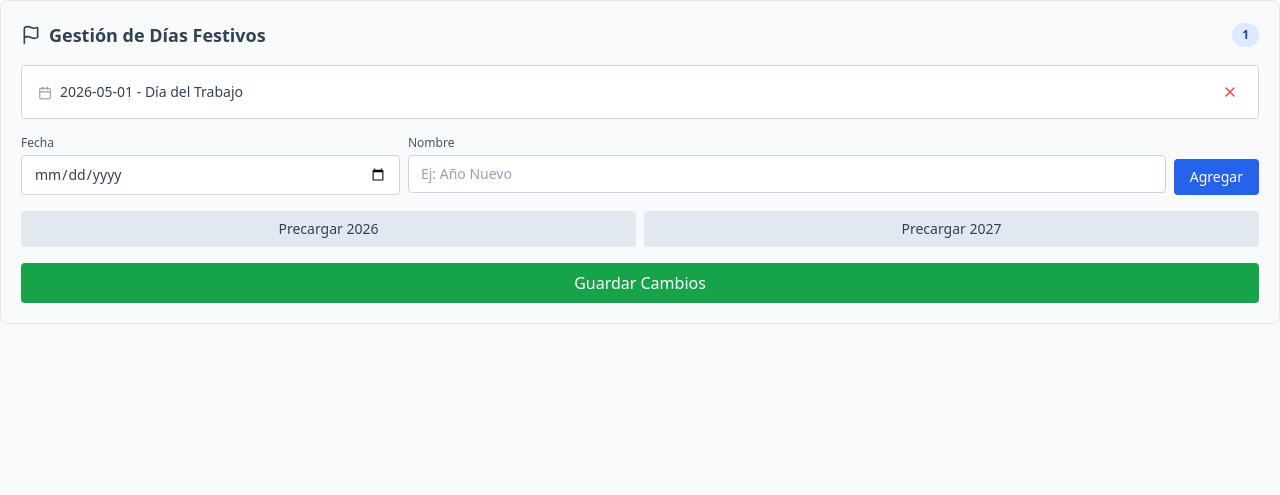
Scenario: HolidayManager › preloads 2026 holidays without overwriting existing entries
Check: the text "2026-05-01 - Día del Trabajo" is shown, box left=38, top=82, right=243, bottom=102
Step 1. Click the button "Precargar 2026" → click(328, 229), box left=21, top=211, right=636, bottom=247
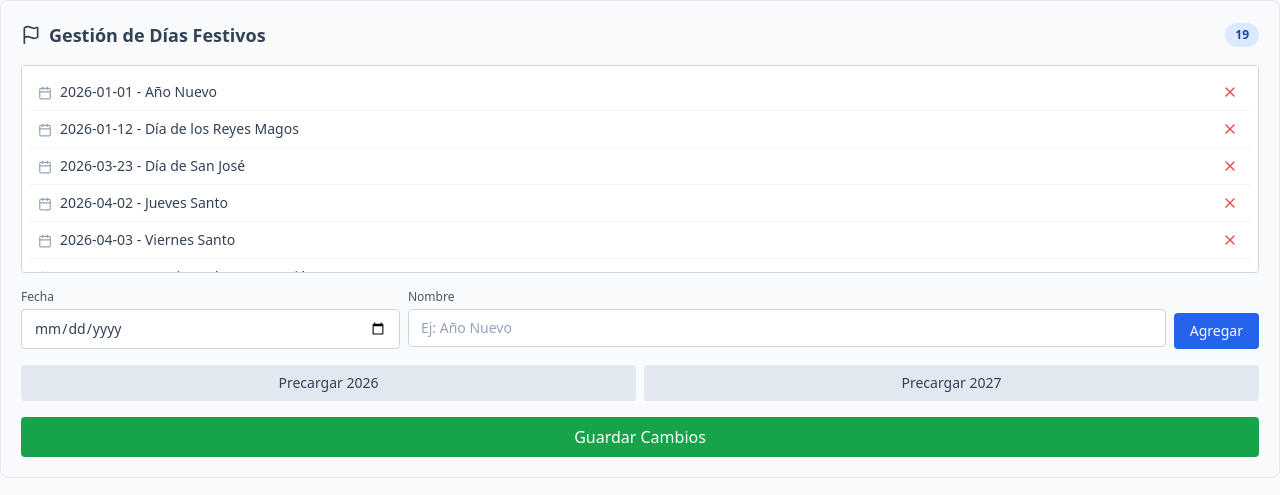
Check: the text "19" is shown, box left=1225, top=23, right=1259, bottom=47
Check: the text "2026-01-01 - Año Nuevo" is shown, box left=38, top=82, right=217, bottom=102
